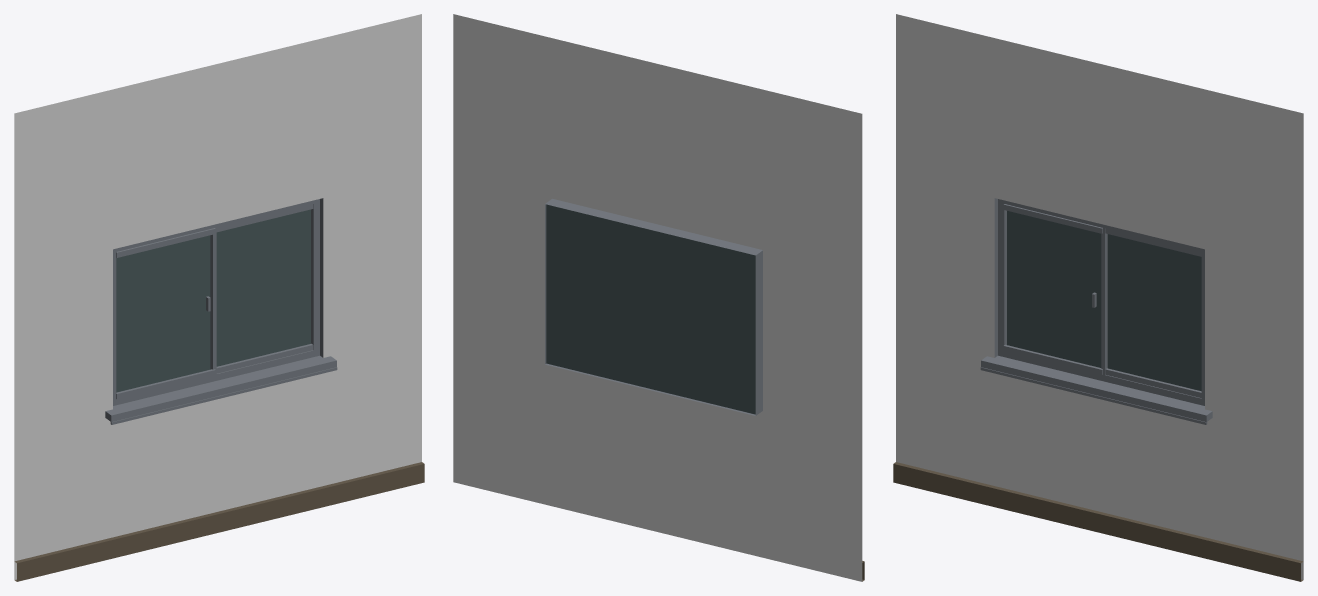
The model's file is top-w1_close.fbx.
3 renders of one model, left to right at view 1: azimuth 30°, elevation 25°; view 2: azimuth 150°, elevation 25°; view 3: azimuth 330°, elevation 25°, orthographic.
Visible parts, largest first — view 1: a2000/0/top-w1_close; view 2: a2000/0/top-w1_close; view 3: a2000/0/top-w1_close.
Boxes of the visible parts, x1,y1,x2,y2 form: a2000/0/top-w1_close: (14,14,424,581); a2000/0/top-w1_close: (453,14,864,581); a2000/0/top-w1_close: (893,14,1303,581).
Bounding box in the file's own units: 3.2 × 3.5 × 0.185.
